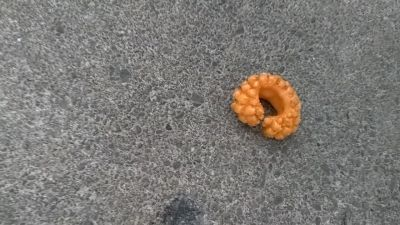eggs: (230, 71, 304, 141)
